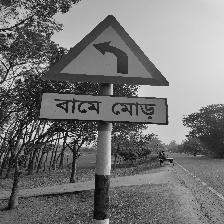Left-Turn: (38, 15, 171, 125)
